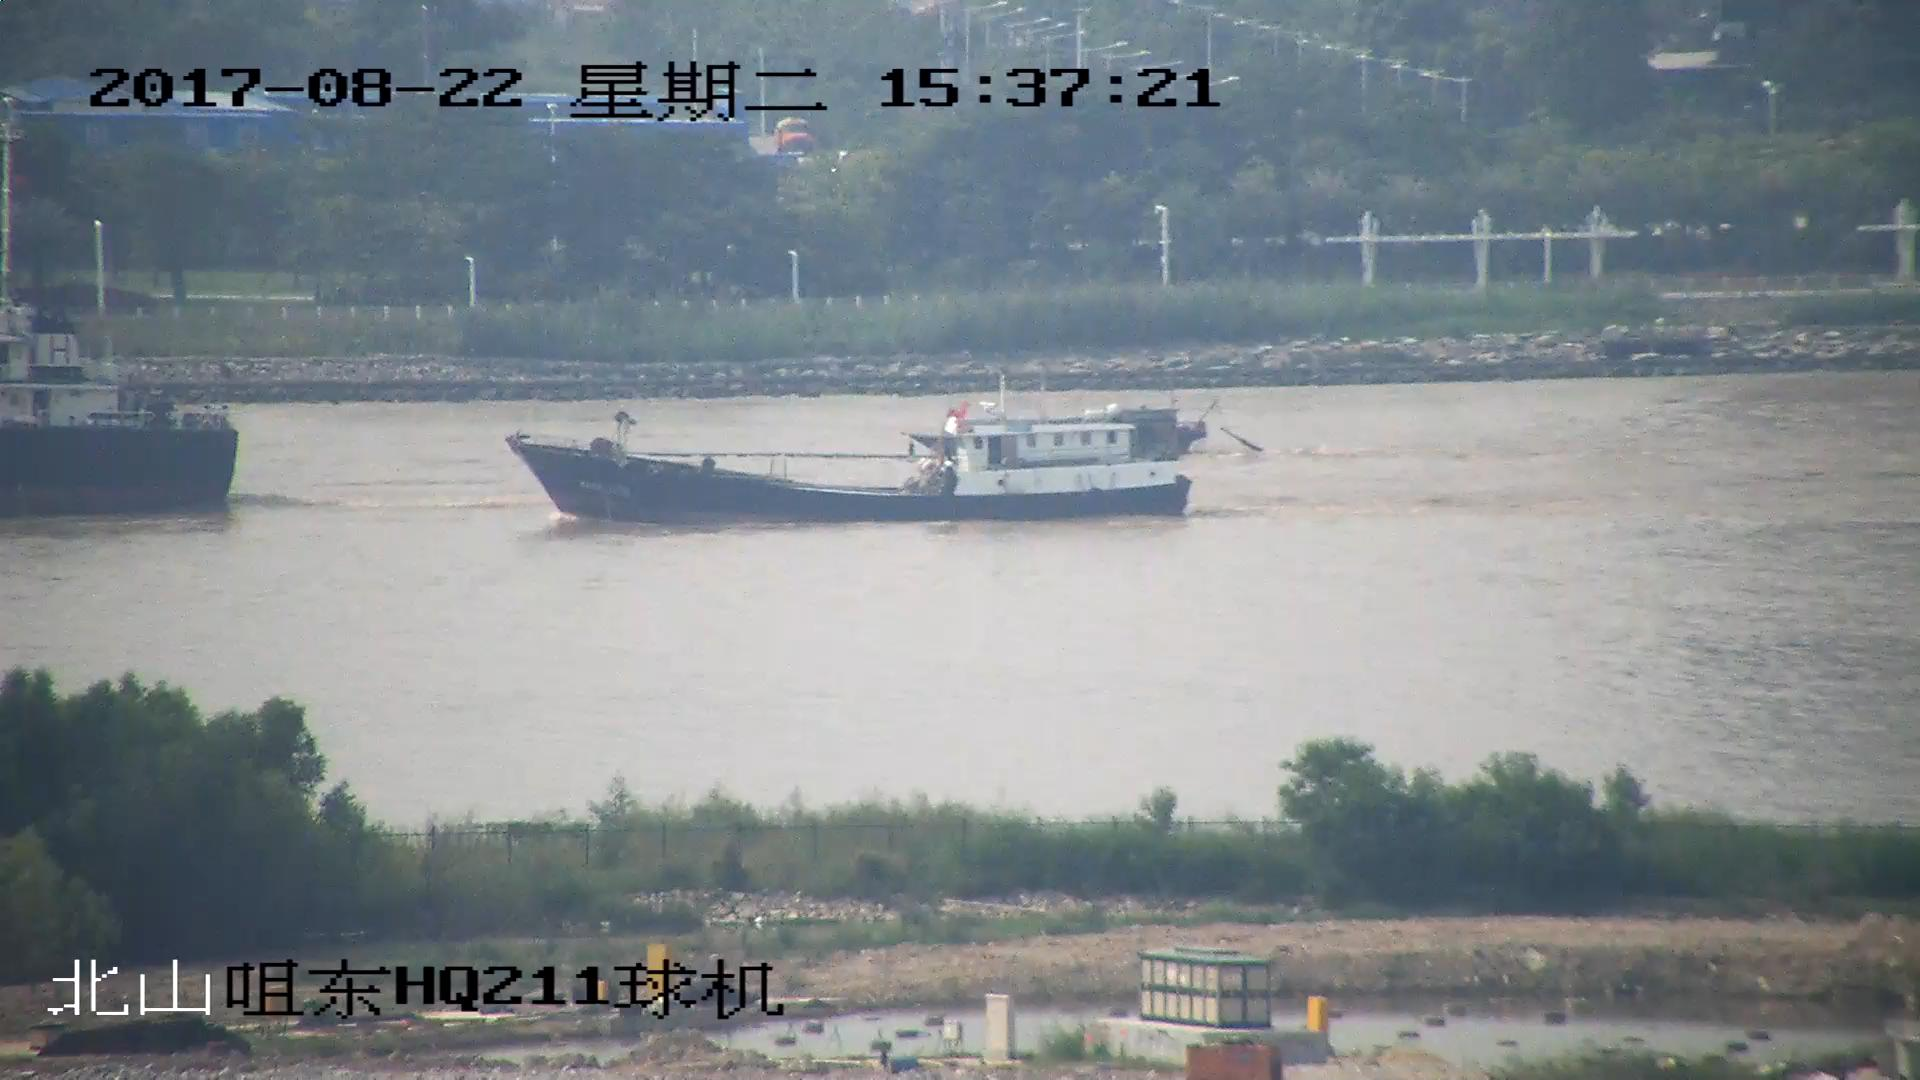fishing boat: (502, 410, 1201, 525), (904, 403, 1261, 465)
general cargo ship: (1, 304, 251, 522)
